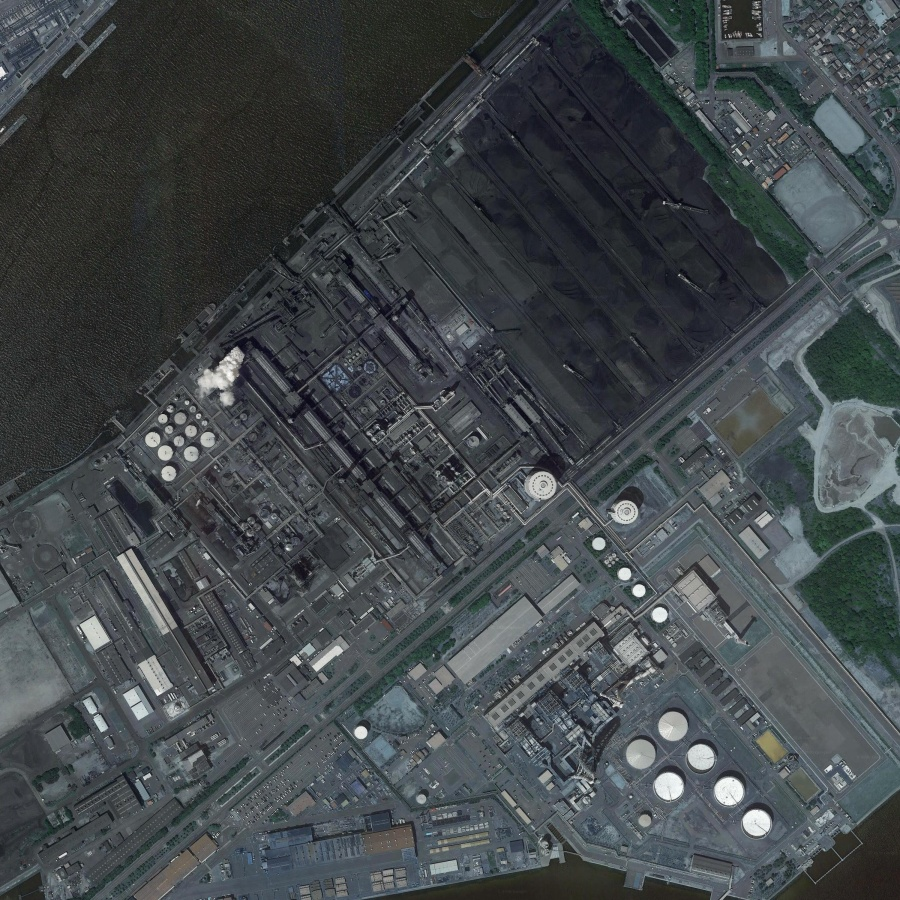PowerPlant: (416, 18, 802, 412), (494, 458, 794, 837)
